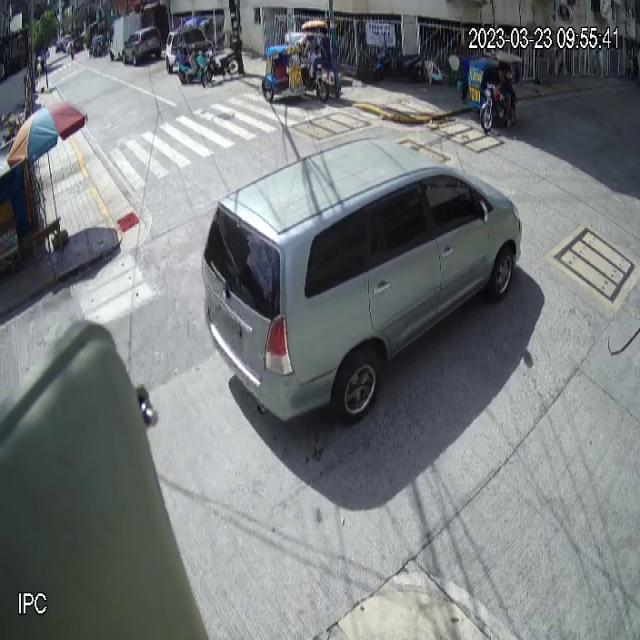Car: (199, 134, 525, 430)
Tricycle: (261, 31, 329, 104), (468, 53, 522, 132)
